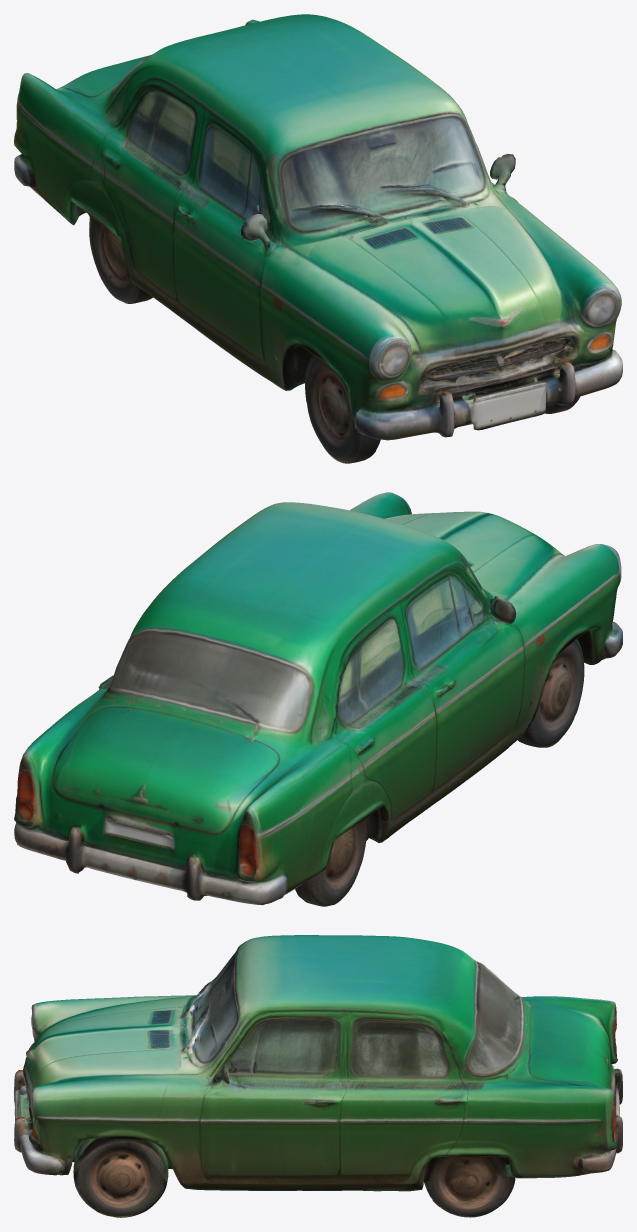
File: oldcar.glb
3 views of the same model, one above another, from view 1: azimuth 30°, elevation 25°; view 2: azimuth 150°, elevation 25°; view 3: azimuth 270°, elevation 25° (orthographic). The views are drawn at different scales.
Size of the model in its own units: 0.8359 by 0.7783 by 2.
1 material, 1 textured.
